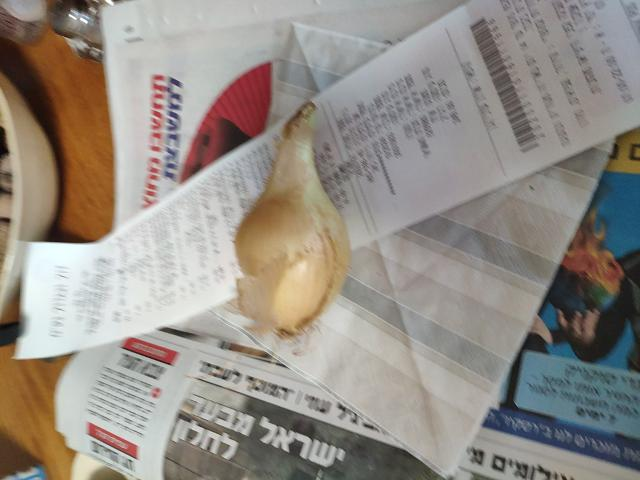onion: (233, 138, 359, 326)
